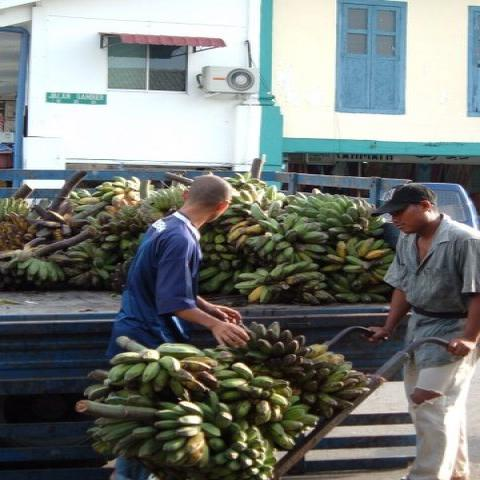truck: (2, 166, 412, 405)
